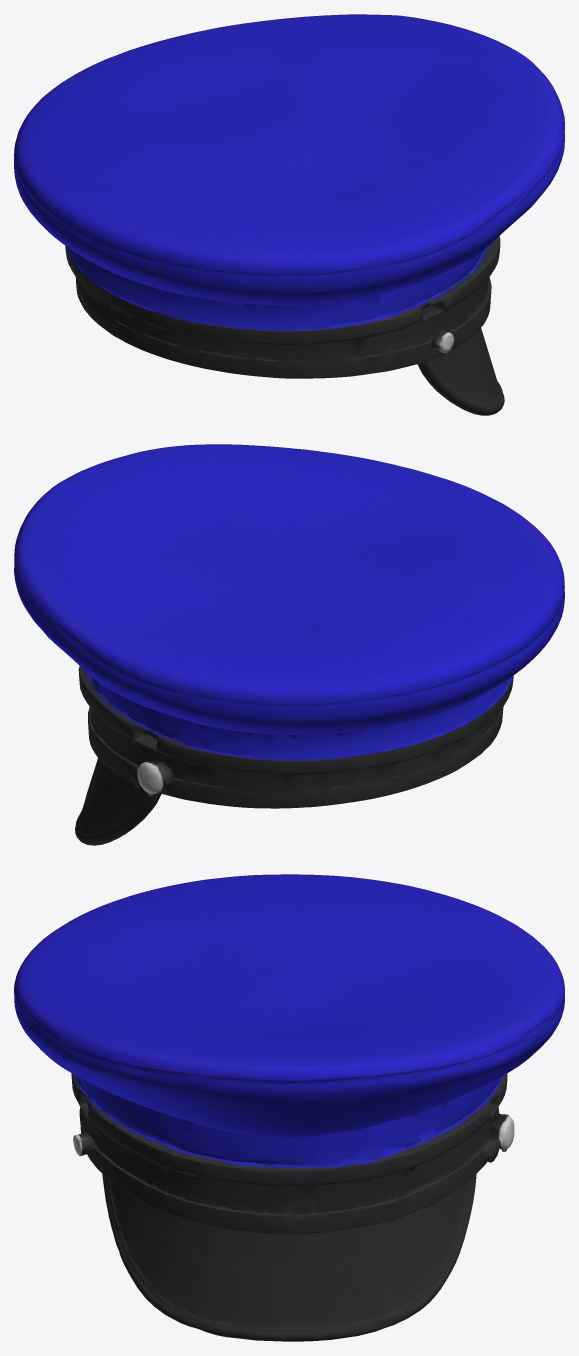
The model's file is peaked-cap.glb.
3 views of the same model, one above another, from view 1: azimuth 30°, elevation 25°; view 2: azimuth 150°, elevation 25°; view 3: azimuth 270°, elevation 25° (orthographic).
Parts seen in each view (by area): view 1: tripo_node_01a217dc-3dcf-7d87-9318-347a8a6ca614; view 2: tripo_node_01a217dc-3dcf-7d87-9318-347a8a6ca614; view 3: tripo_node_01a217dc-3dcf-7d87-9318-347a8a6ca614.
Part boxes in pixels (bbox=[...]): tripo_node_01a217dc-3dcf-7d87-9318-347a8a6ca614: bbox=[14, 14, 564, 415]; tripo_node_01a217dc-3dcf-7d87-9318-347a8a6ca614: bbox=[14, 444, 564, 845]; tripo_node_01a217dc-3dcf-7d87-9318-347a8a6ca614: bbox=[14, 874, 564, 1341].
Size of the model in its own units: 0.9976 by 0.6014 by 1.
1 material, 1 textured.
